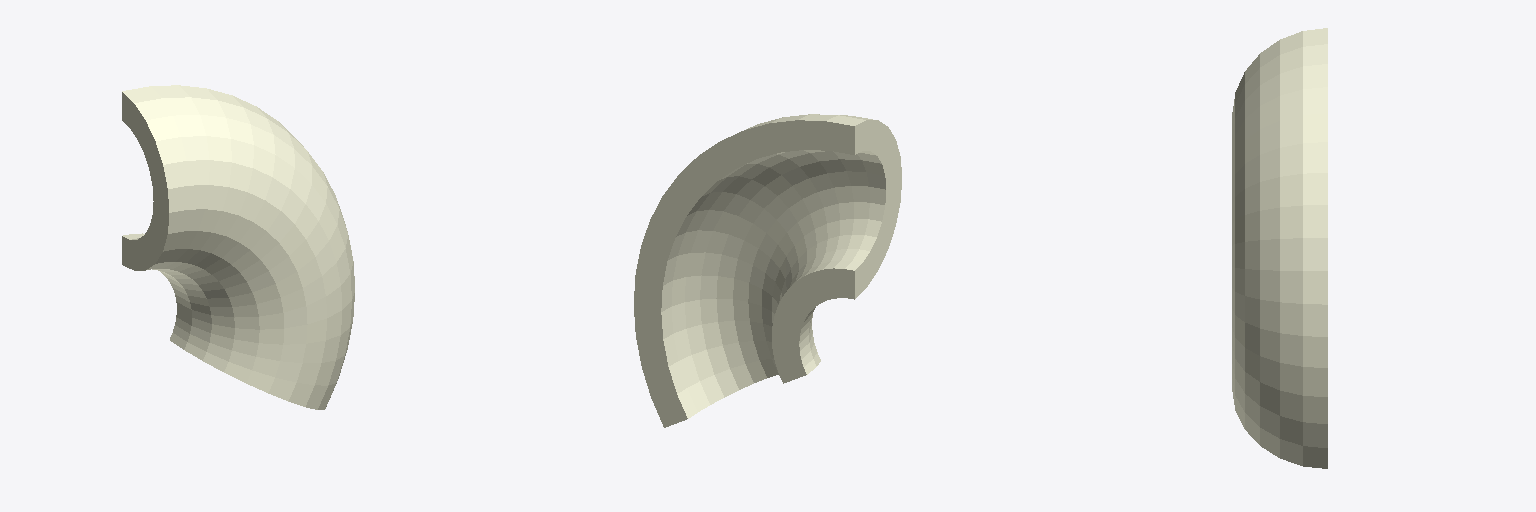
Rendered from section_014.obj.
3 views of the same model, side by side, from view 1: azimuth 30°, elevation 25°; view 2: azimuth 150°, elevation 25°; view 3: azimuth 270°, elevation 25° (orthographic).
Bounding box in the file's own units: 8 × 12.06 × 3.